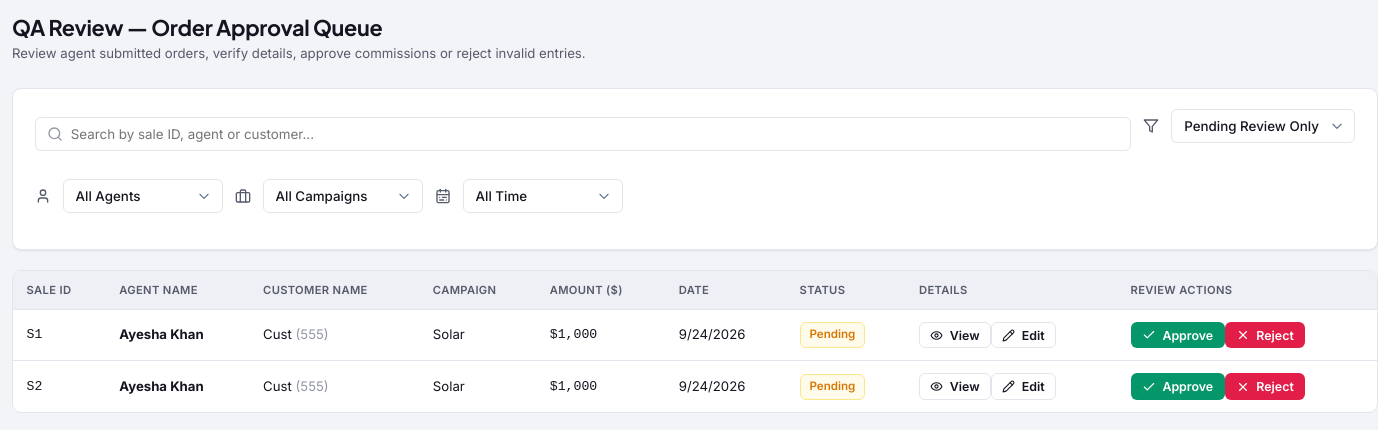
Test: QASalesApproval campaign filter › resets to showing every campaign when "All Campaigns" is chosen again
Select "Solar" in the dropdown named "filter by campaign" at coordinates (343, 196), box [263, 179, 423, 213]
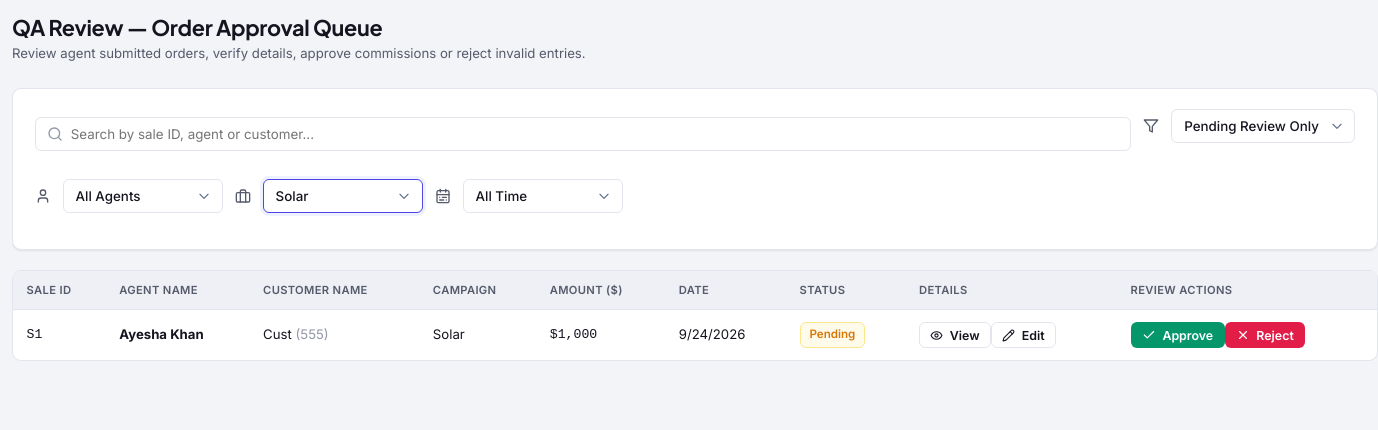
Select "All Campaigns" in the dropdown named "filter by campaign" at coordinates (343, 196), box [263, 179, 423, 213]
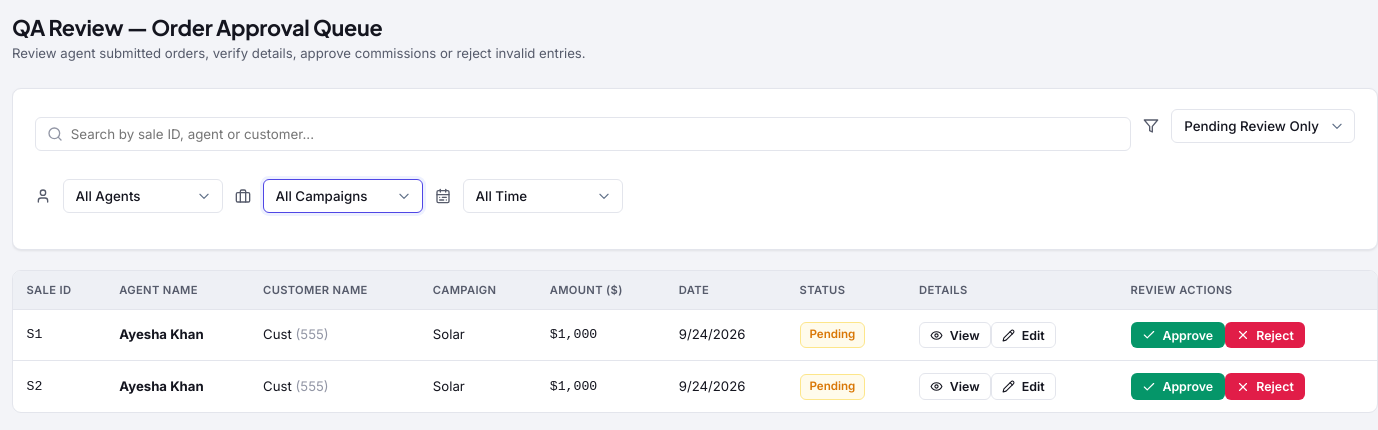
Expected: the text "S1" is shown, [13, 309, 106, 361]
Expected: the text "S2" is shown, [13, 361, 106, 412]
